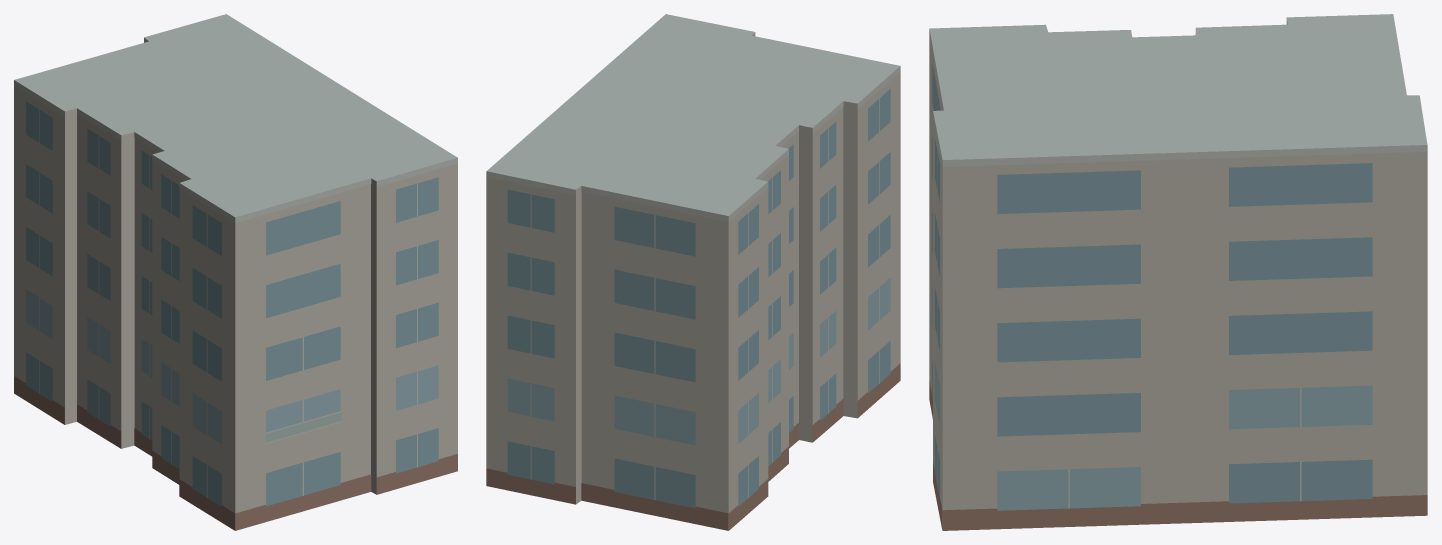
The model's file is survey-upis-32911664.glb.
3 views of the same model, side by side, from view 1: azimuth 30°, elevation 25°; view 2: azimuth 150°, elevation 25°; view 3: azimuth 270°, elevation 25° (orthographic). The views are drawn at different scales.
Visible parts, largest first — view 1: survey-upis-32911664.tmp; view 2: survey-upis-32911664.tmp; view 3: survey-upis-32911664.tmp.
Boxes of the visible parts, x1=… form: survey-upis-32911664.tmp: x1=14, y1=14, x2=457, y2=530; survey-upis-32911664.tmp: x1=486, y1=14, x2=900, y2=530; survey-upis-32911664.tmp: x1=929, y1=14, x2=1427, y2=530.
Bounding box in the file's own units: 11.21 × 13.25 × 16.14.
